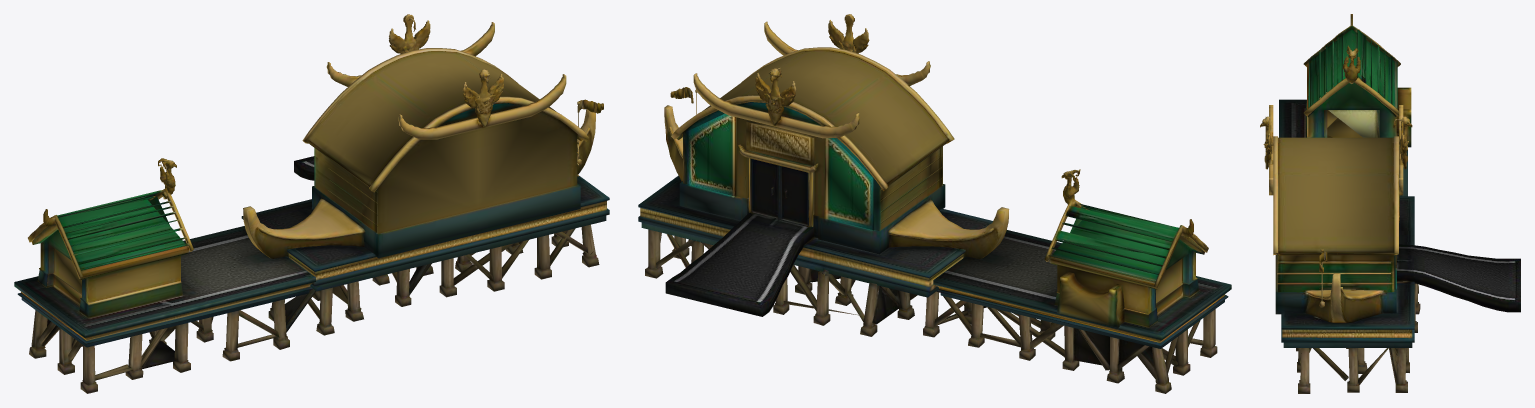
File: nmrf_airfield.glb
3 views of the same model, side by side, from view 1: azimuth 30°, elevation 25°; view 2: azimuth 150°, elevation 25°; view 3: azimuth 270°, elevation 25° (orthographic). The views are drawn at different scales.
Visible parts, largest first — view 1: Body; view 2: Body; view 3: Body.
Part boxes in pixels (x1,y1,x2,y2): Body: [14, 14, 609, 393]; Body: [638, 14, 1231, 393]; Body: [1260, 14, 1520, 393].
Size of the model in its own units: 14.67 by 6.17 by 6.69.
2 materials, 2 textured.
